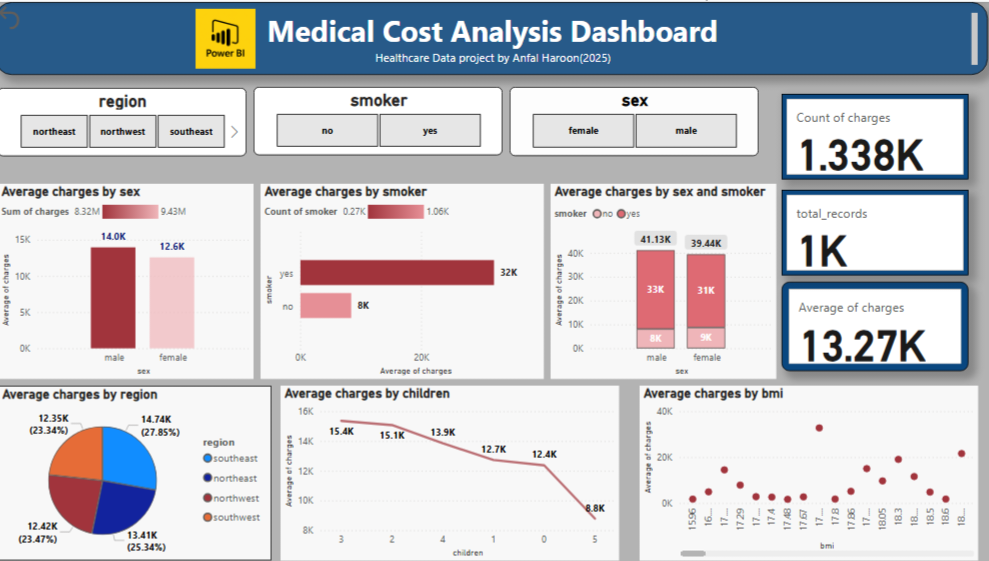

This screenshot's page, from the dashboard's own definition file:
{"tool":"powerbi","page":{"name":"Page 1","canvas":[1280,720],"ordinal":0},"visuals":[{"type":"textbox","box":[2.6,0,1274.9,93.8],"z":0},{"type":"cardVisual","fields":{"Data":["Avg(medical_cost.charges)"]},"box":[1012.7,359.8,240.3,115],"z":1000},{"type":"cardVisual","fields":{"Data":["CountNonNull(medical_cost.charges)"]},"box":[1012.7,118.2,240.3,110],"z":2000},{"type":"cardVisual","fields":{"Data":["medical_cost.total_records"]},"box":[1012.7,241.6,240.3,110],"z":3000},{"type":"clusteredColumnChart","title":"Average  charges by sex","fields":{"Category":["medical_cost.sex"],"Y":["Avg(medical_cost.charges)"]},"box":[5.1,233.9,329,250.6],"z":4000},{"type":"barChart","title":"Average  charges by smoker","fields":{"Category":["medical_cost.smoker"],"Y":["Avg(medical_cost.charges)"]},"box":[343.1,233.9,363.7,250.6],"z":5000},{"type":"pieChart","title":"Average  charges by region","fields":{"Category":["medical_cost.region"],"Y":["Avg(medical_cost.charges)"]},"box":[5.1,493.5,352.1,225],"z":6000},{"type":"scatterChart","title":"Average  charges by bmi","fields":{"X":["medical_cost.bmi"],"Y":["Avg(medical_cost.charges)"]},"box":[830.2,493.5,435,225],"z":7000},{"type":"lineChart","title":"Average  charges by children","fields":{"Category":["medical_cost.children"],"Y":["Avg(medical_cost.charges)"]},"box":[368.8,493.5,435,225],"z":8000},{"type":"columnChart","title":"Average charges by sex and smoker","fields":{"Category":["medical_cost.sex"],"Series":["medical_cost.smoker"],"Y":["Avg(medical_cost.charges)"]},"box":[715.8,233.9,290.4,250.6],"z":9000},{"type":"slicer","title":"sex","fields":{"Values":["medical_cost.sex"]},"box":[663.1,109.2,320,88.7],"z":10000},{"type":"slicer","title":"region","fields":{"Values":["medical_cost.region"]},"box":[5.1,110.5,320,88],"z":11000},{"type":"slicer","title":"smoker","fields":{"Values":["medical_cost.smoker"]},"box":[334.1,109.2,320,88],"z":12000},{"type":"actionButton","box":[0,0,100,40],"z":14000},{"type":"image","box":[142.7,3.9,311,87.4],"z":14001}]}

Visuals, with their boxes in screenshot pixels (x1, y1, x2, y2), scaled from the page's 1280x720 canvas onto the 989x561 screenshot:
textbox: {"left": 2, "top": 0, "right": 987, "bottom": 73}
cardVisual - Avg(medical_cost.charges): {"left": 782, "top": 280, "right": 968, "bottom": 370}
cardVisual - CountNonNull(medical_cost.charges): {"left": 782, "top": 92, "right": 968, "bottom": 178}
cardVisual - medical_cost.total_records: {"left": 782, "top": 188, "right": 968, "bottom": 274}
"Average  charges by sex" clusteredColumnChart: {"left": 4, "top": 182, "right": 258, "bottom": 378}
"Average  charges by smoker" barChart: {"left": 265, "top": 182, "right": 546, "bottom": 378}
"Average  charges by region" pieChart: {"left": 4, "top": 385, "right": 276, "bottom": 560}
"Average  charges by bmi" scatterChart: {"left": 641, "top": 385, "right": 978, "bottom": 560}
"Average  charges by children" lineChart: {"left": 285, "top": 385, "right": 621, "bottom": 560}
"Average charges by sex and smoker" columnChart: {"left": 553, "top": 182, "right": 777, "bottom": 378}
"sex" slicer: {"left": 512, "top": 85, "right": 760, "bottom": 154}
"region" slicer: {"left": 4, "top": 86, "right": 251, "bottom": 155}
"smoker" slicer: {"left": 258, "top": 85, "right": 505, "bottom": 154}
actionButton: {"left": 0, "top": 0, "right": 77, "bottom": 31}
image: {"left": 110, "top": 3, "right": 351, "bottom": 71}
